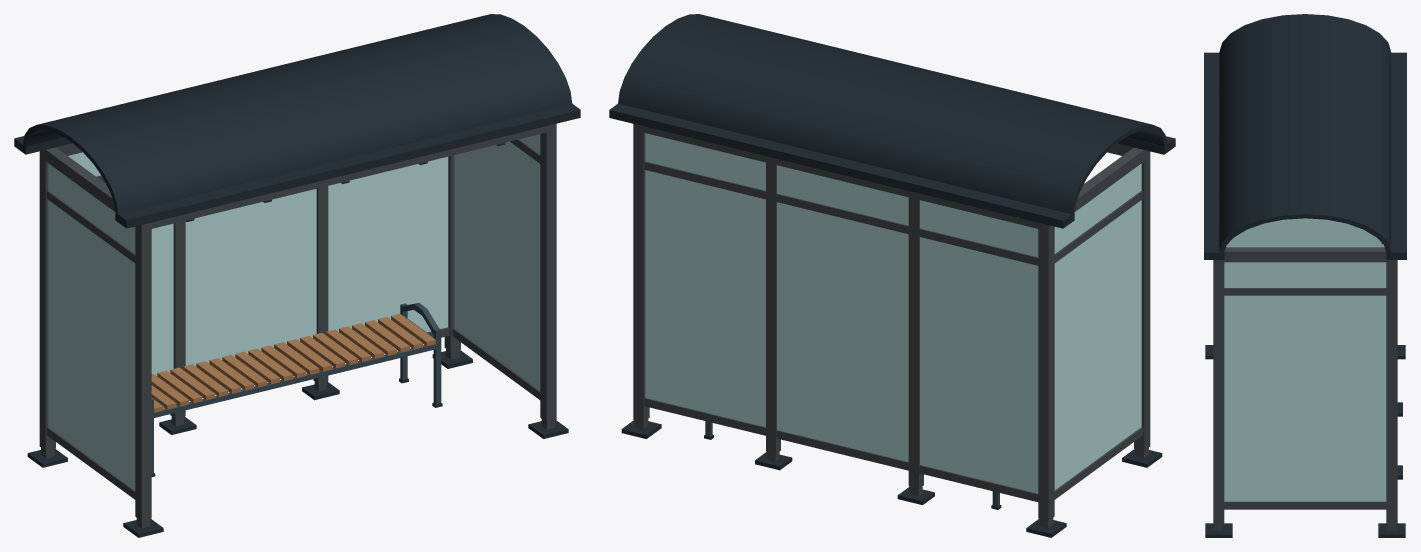
Rendered from SM_FloorProps_BusStation_01.fbx.
3 renders of one model, left to right at view 1: azimuth 30°, elevation 25°; view 2: azimuth 150°, elevation 25°; view 3: azimuth 270°, elevation 25°, orthographic. The views are drawn at different scales.
Visible parts, largest first — view 1: SM_FloorProps_BusStation_01; view 2: SM_FloorProps_BusStation_01; view 3: SM_FloorProps_BusStation_01.
Part boxes in pixels (x1=…): SM_FloorProps_BusStation_01: x1=14, y1=14, x2=580, y2=537; SM_FloorProps_BusStation_01: x1=609, y1=14, x2=1175, y2=537; SM_FloorProps_BusStation_01: x1=1204, y1=14, x2=1406, y2=537.
Bounding box in the file's own units: 3.58 × 2.74 × 1.53.
